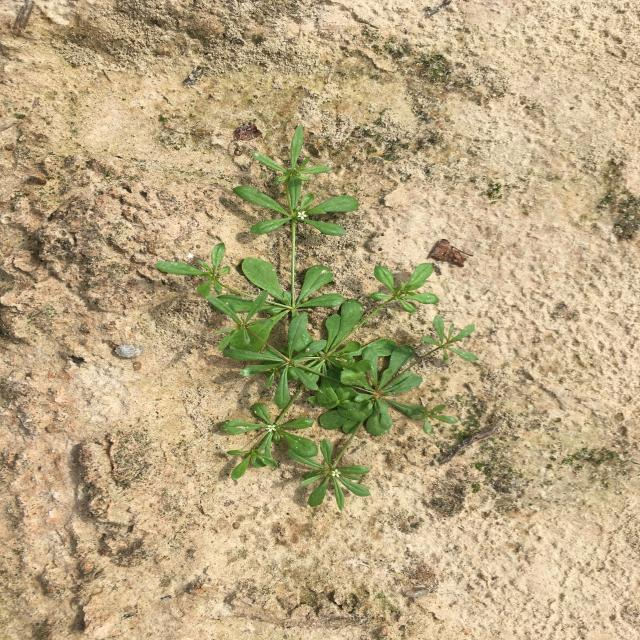Carpetweed: (154, 124, 479, 512)
